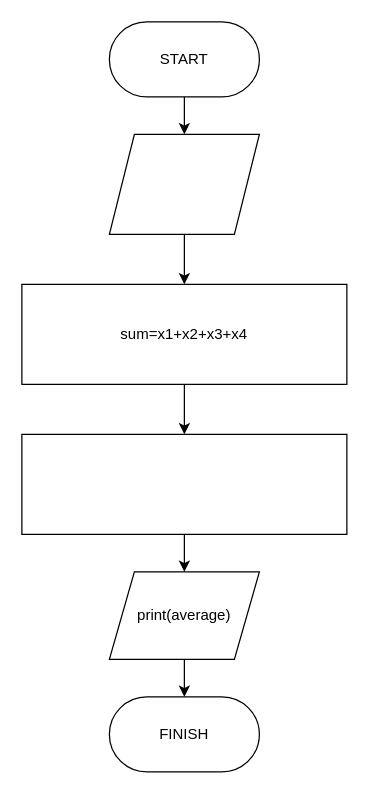
Image size: 369x794. Some labels were removed from this diagram. Here are the shapes that lost their labels. From the top down, the box of each, then its label:
(108, 133, 259, 234): x1=1 x2=2 x3=3 x4=4 sum=0
(21, 433, 347, 534): average=sum/4
